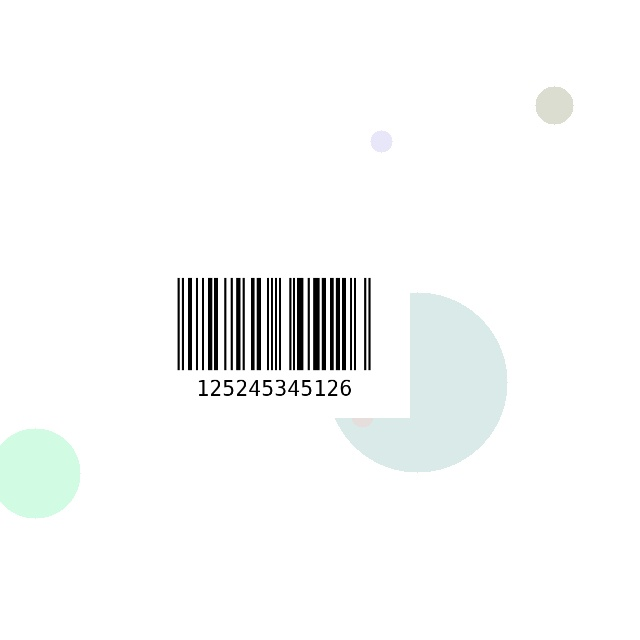barcode: (138, 272, 410, 418)
